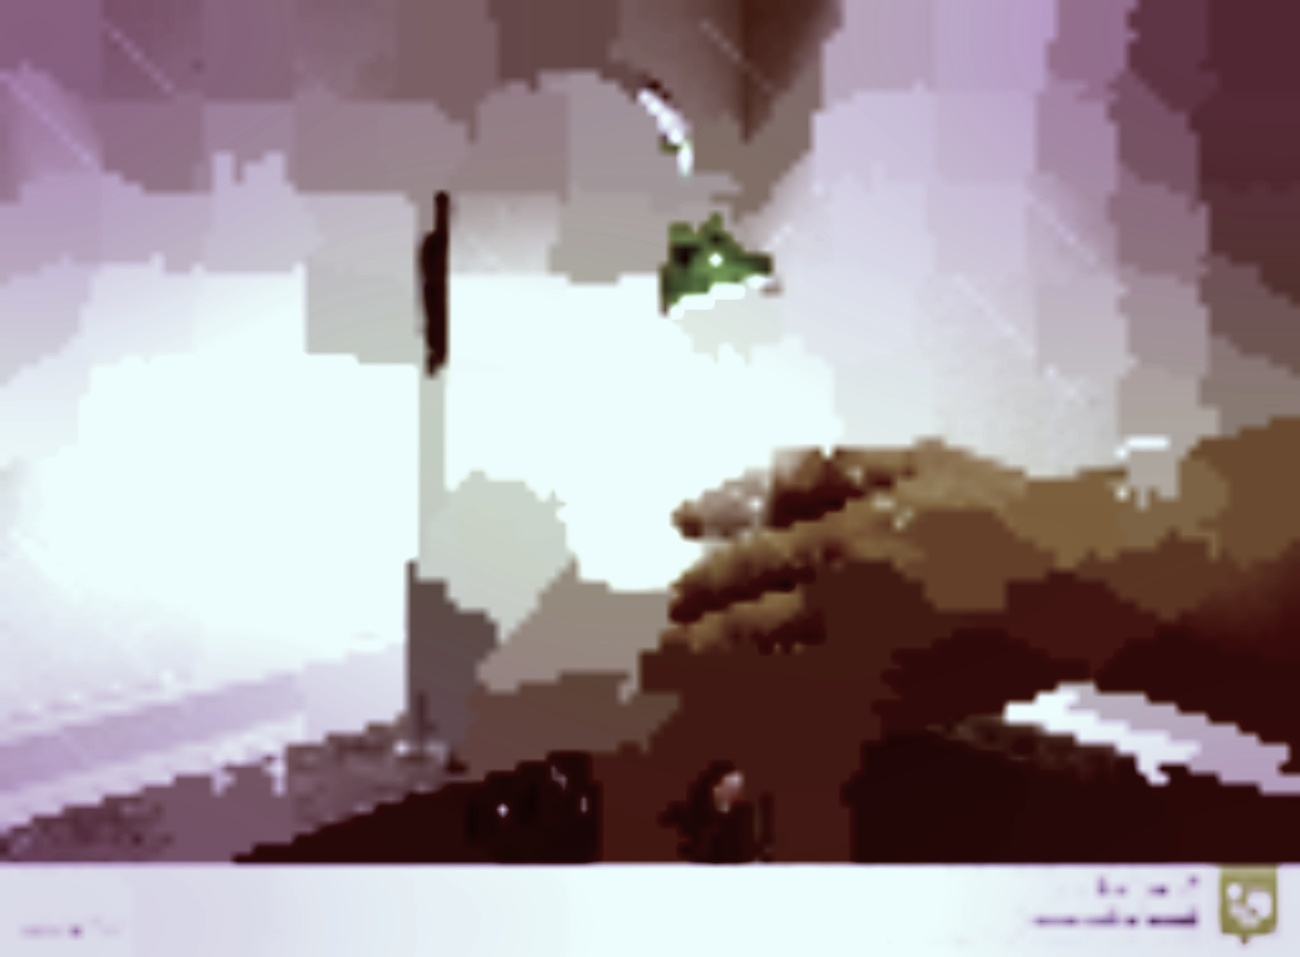washing hand: (381, 48, 1005, 830)
